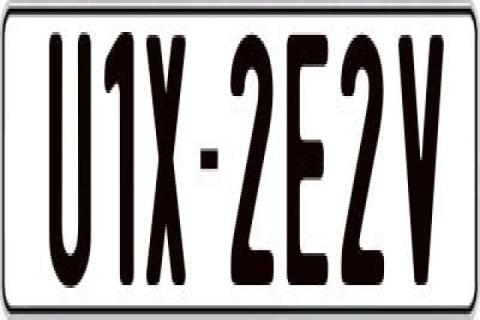0: (230, 29, 278, 297), (339, 35, 383, 294), (105, 24, 137, 288)
E: (286, 35, 334, 291)
U: (48, 23, 98, 285)
V: (398, 32, 450, 291)
X: (146, 35, 188, 288)
